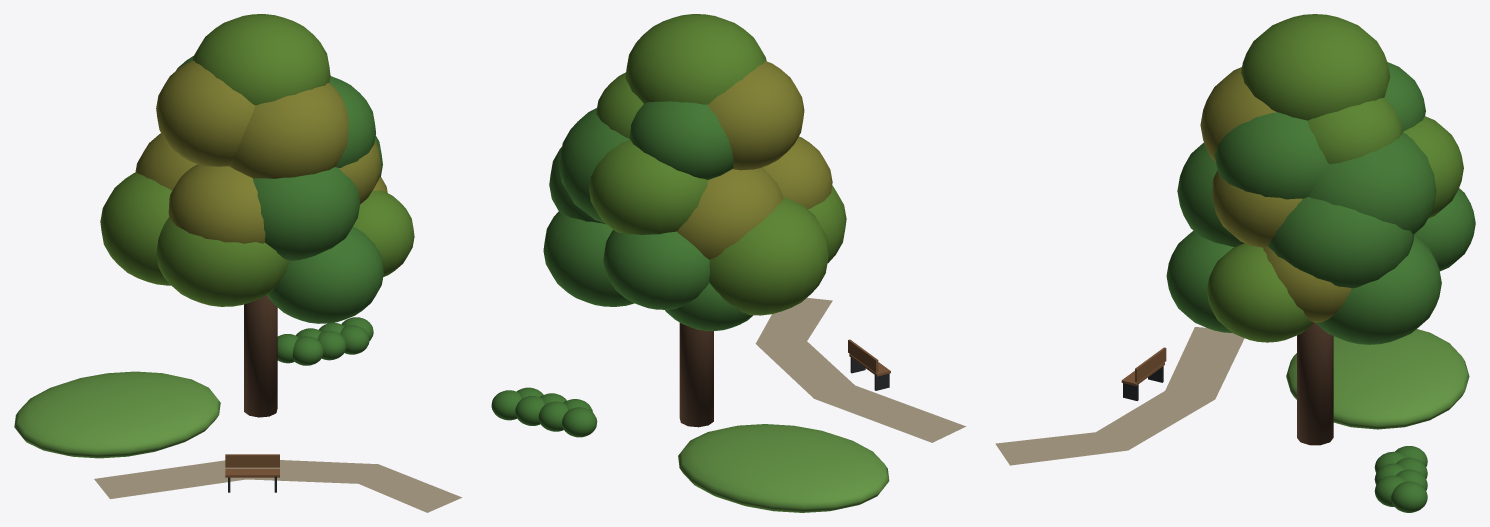
File: praca2.glb
The picture shows the model from 3 angles, left to right: view 1: azimuth 30°, elevation 25°; view 2: azimuth 150°, elevation 25°; view 3: azimuth 270°, elevation 25°; orthographic projection. The views are drawn at different scales.
Visible parts, largest first — view 1: morrinho, copa_topo, copa.017, copa.005, caminho, copa.012, copa.016, copa.006, copa.011, copa.004, tronco, copa.007 (+9 smaller); view 2: morrinho, copa_topo, copa.004, caminho, copa.009, copa.016, copa.002, copa.015, copa.010, copa.001, copa.008, tronco (+9 smaller); view 3: copa_topo, morrinho, caminho, copa.014, copa.008, copa.018, copa.001, copa.007, tronco, copa.019, copa.006, copa.013 (+8 smaller).
Part boxes in pixels (box(x1,y1,x2,y2)): morrinho: box(14, 371, 220, 458); copa_topo: box(192, 14, 330, 105); copa.017: box(229, 82, 348, 178); copa.005: box(156, 217, 289, 306); caminho: box(94, 460, 461, 512); copa.012: box(253, 167, 360, 260); copa.016: box(156, 60, 255, 166); copa.006: box(267, 226, 383, 323); copa.011: box(168, 164, 265, 243); copa.004: box(100, 172, 171, 285); tronco: box(244, 295, 277, 417); copa.007: box(353, 190, 414, 276); morrinho: box(678, 424, 889, 512); copa_topo: box(625, 14, 766, 104); copa.004: box(709, 198, 829, 315); caminho: box(755, 298, 966, 442); copa.009: box(589, 139, 707, 234); copa.016: box(708, 61, 804, 170); copa.002: box(603, 230, 709, 309); copa.015: box(629, 101, 733, 179); copa.010: box(677, 167, 783, 259); copa.001: box(543, 211, 634, 306); copa.008: box(559, 108, 629, 223); tronco: box(679, 323, 713, 427); copa_topo: box(1241, 14, 1390, 120); morrinho: box(1286, 329, 1469, 429); caminho: box(995, 327, 1244, 465); copa.014: box(1268, 197, 1414, 288); copa.008: box(1308, 132, 1436, 234); copa.018: box(1214, 112, 1328, 199); copa.001: box(1315, 235, 1441, 344); copa.007: box(1207, 243, 1313, 342); tronco: box(1297, 322, 1333, 445); copa.019: box(1308, 98, 1402, 163); copa.006: box(1166, 231, 1233, 332); copa.013: box(1212, 170, 1302, 247).
Size of the model in its own units: 10.75 by 11.49 by 11.53.
